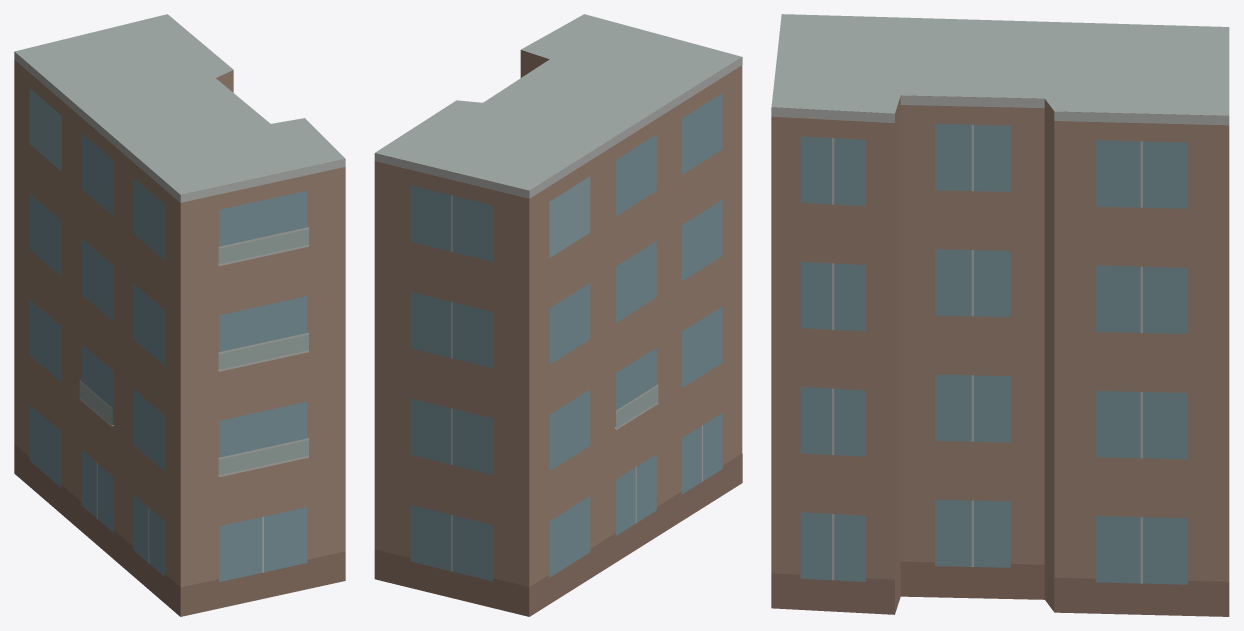
Rendered from survey-upis-32471861.glb.
3 renders of one model, left to right at view 1: azimuth 30°, elevation 25°; view 2: azimuth 150°, elevation 25°; view 3: azimuth 270°, elevation 25°, orthographic. The views are drawn at different scales.
Parts seen in each view (by area): view 1: survey-upis-32471861.tmp; view 2: survey-upis-32471861.tmp; view 3: survey-upis-32471861.tmp.
Boxes of the visible parts, x1,y1,x2,y2 form: survey-upis-32471861.tmp: (14,14,345,616); survey-upis-32471861.tmp: (374,14,742,616); survey-upis-32471861.tmp: (771,14,1229,616).
Bounding box in the file's own units: 5.58 × 12.8 × 10.62.
